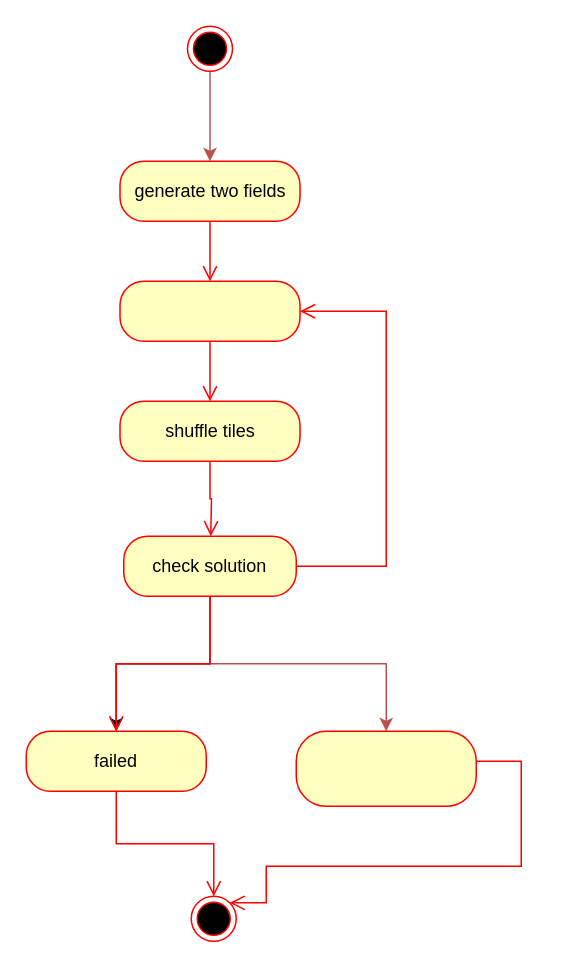
This 563x968 diagram has some shape labels left out. The centre of each missing label's shape, as x and y in pixels:
playing: the point at 209,310
solved: the point at 385,768
